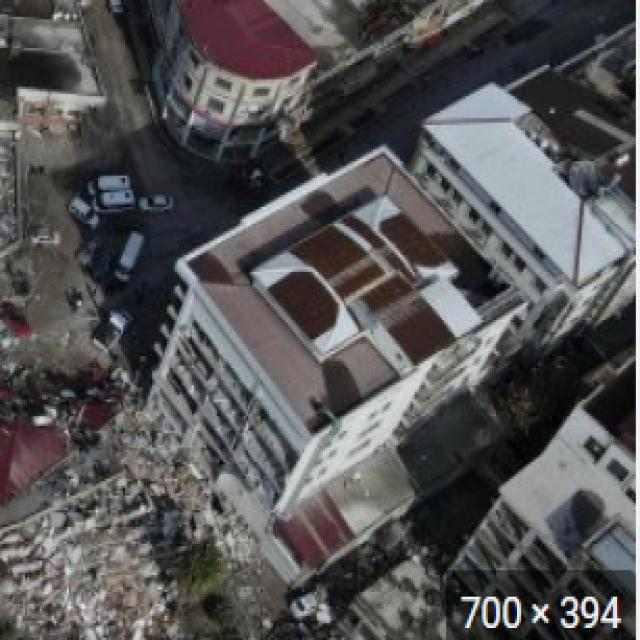Rubble: (8, 392, 162, 636), (218, 506, 266, 574), (167, 450, 206, 524)
